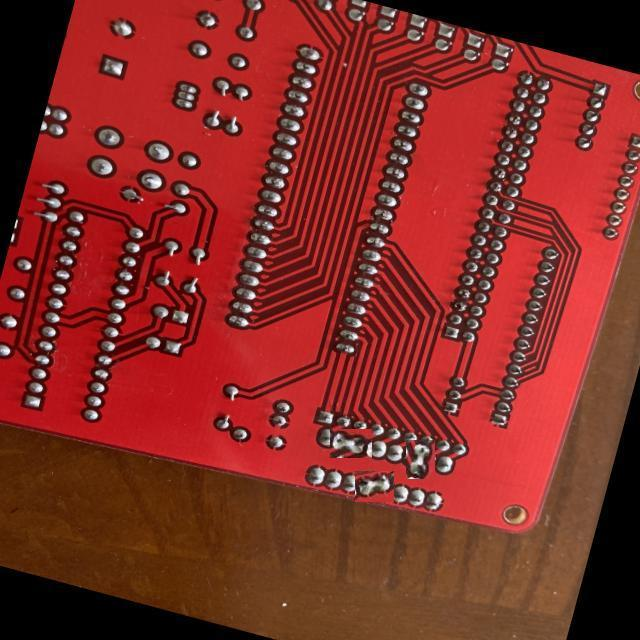damged: (356, 472, 396, 504), (403, 442, 438, 477), (330, 429, 372, 458)
